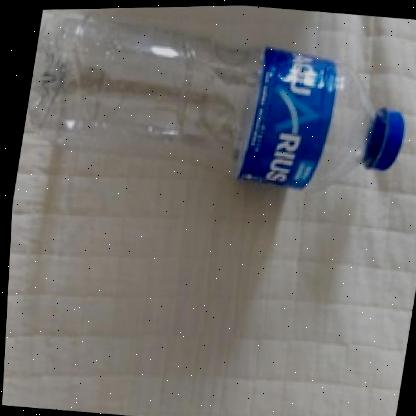Plastic Bottle: (26, 12, 404, 192)
